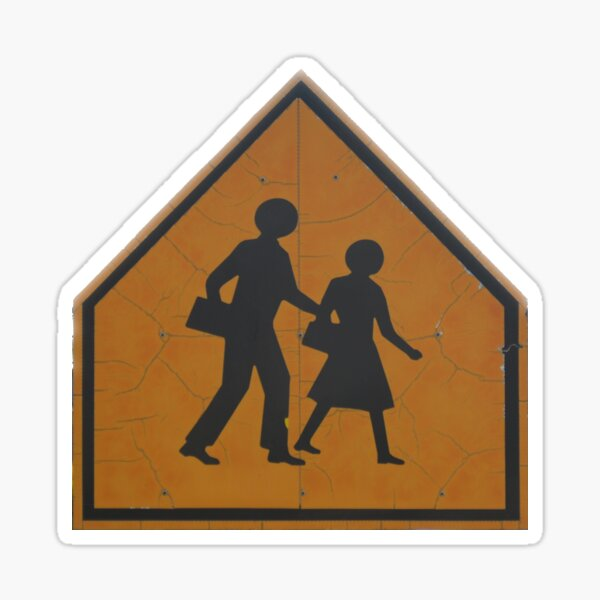pedestrian: (83, 77, 539, 547)
